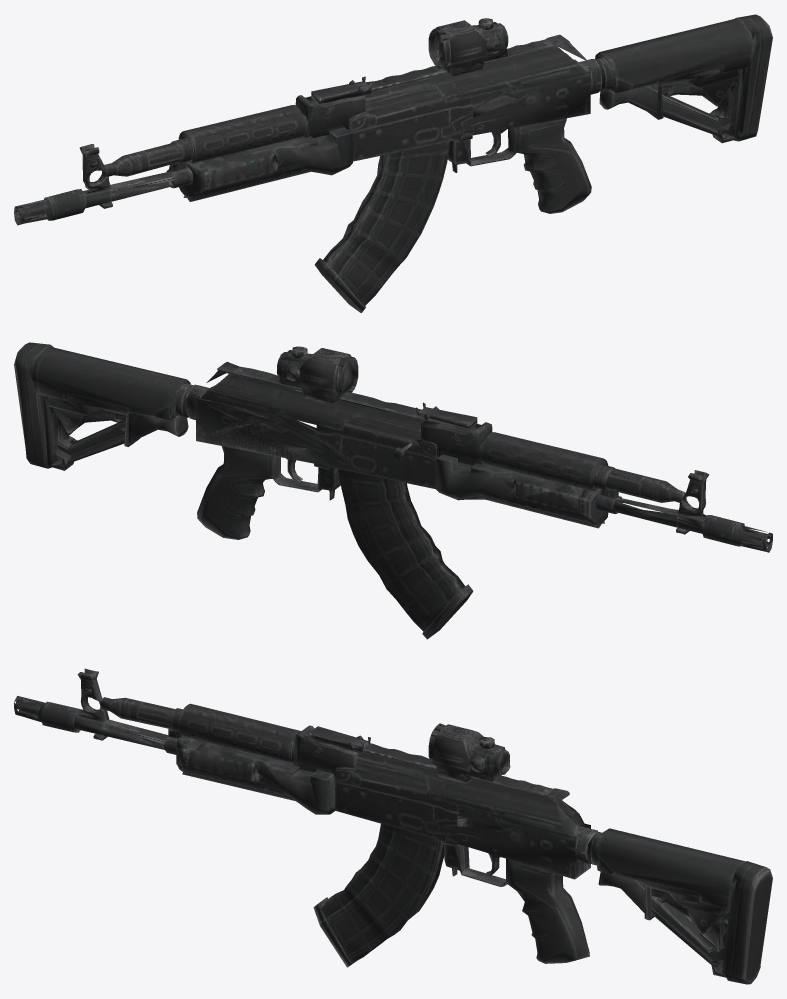
Rendered from arma_ar.glb.
The picture shows the model from 3 angles, top to bottom: view 1: azimuth 30°, elevation 25°; view 2: azimuth 150°, elevation 25°; view 3: azimuth 330°, elevation 25°; orthographic projection.
Bounding box in the file's own units: 0.9575 × 0.3159 × 0.0733.
Materials: 1 (1 with a texture image).
